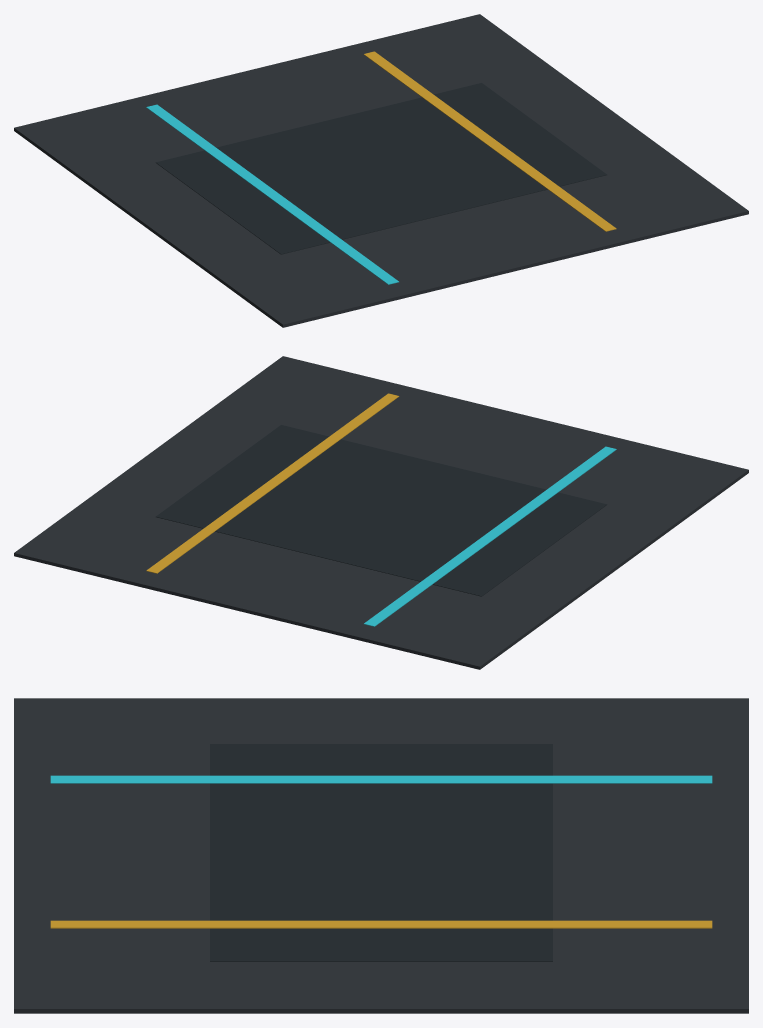
The model's file is floor.loading_bay_12x12.glb.
3 views of the same model, one above another, from view 1: azimuth 30°, elevation 25°; view 2: azimuth 150°, elevation 25°; view 3: azimuth 270°, elevation 25° (orthographic). The views are drawn at different scales.
Visible parts, largest first — view 1: floor_slab, wet_reflective_center, route_stripe_b, route_stripe_a; view 2: floor_slab, wet_reflective_center, route_stripe_b, route_stripe_a; view 3: floor_slab, wet_reflective_center, route_stripe_a, route_stripe_b.
Part boxes in pixels (bbox=[...]): floor_slab: bbox=[14, 14, 748, 327]; wet_reflective_center: bbox=[155, 83, 606, 254]; route_stripe_b: bbox=[363, 51, 616, 231]; route_stripe_a: bbox=[146, 104, 398, 284]; floor_slab: bbox=[14, 356, 748, 669]; wet_reflective_center: bbox=[156, 425, 607, 596]; route_stripe_b: bbox=[146, 393, 399, 573]; route_stripe_a: bbox=[364, 446, 616, 626]; floor_slab: bbox=[14, 698, 748, 1013]; wet_reflective_center: bbox=[210, 744, 552, 961]; route_stripe_a: bbox=[50, 775, 712, 783]; route_stripe_b: bbox=[50, 920, 712, 928].
Bounding box in the file's own units: 12 × 0.117 × 12.
